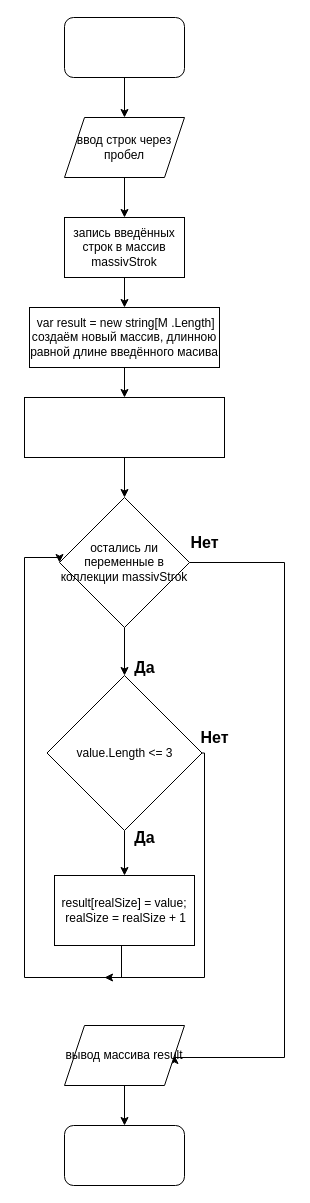
This 310x1203 diagram has some shape labels left out. The centre of each missing label's shape, as x and y in pixels:
конец: (x=124, y=1155)
начало: (x=124, y=47)
создаём переменную realSize которая обозначает индекс итерируемого массива: (x=124, y=427)
